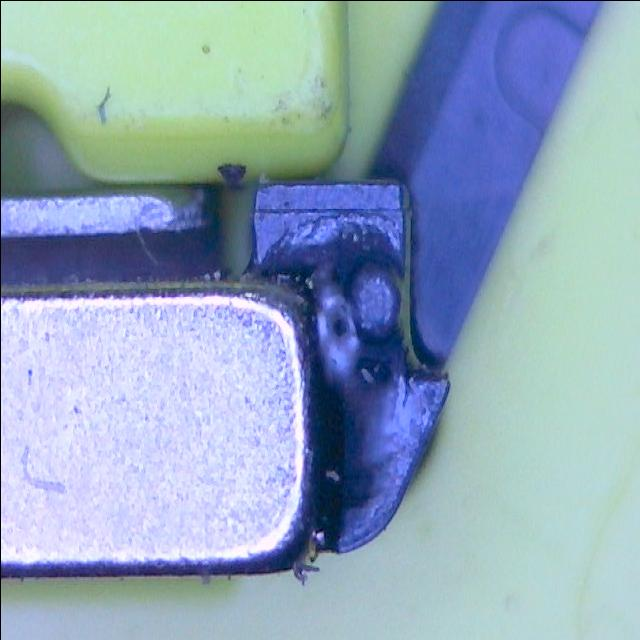over: (314, 351, 398, 519)
